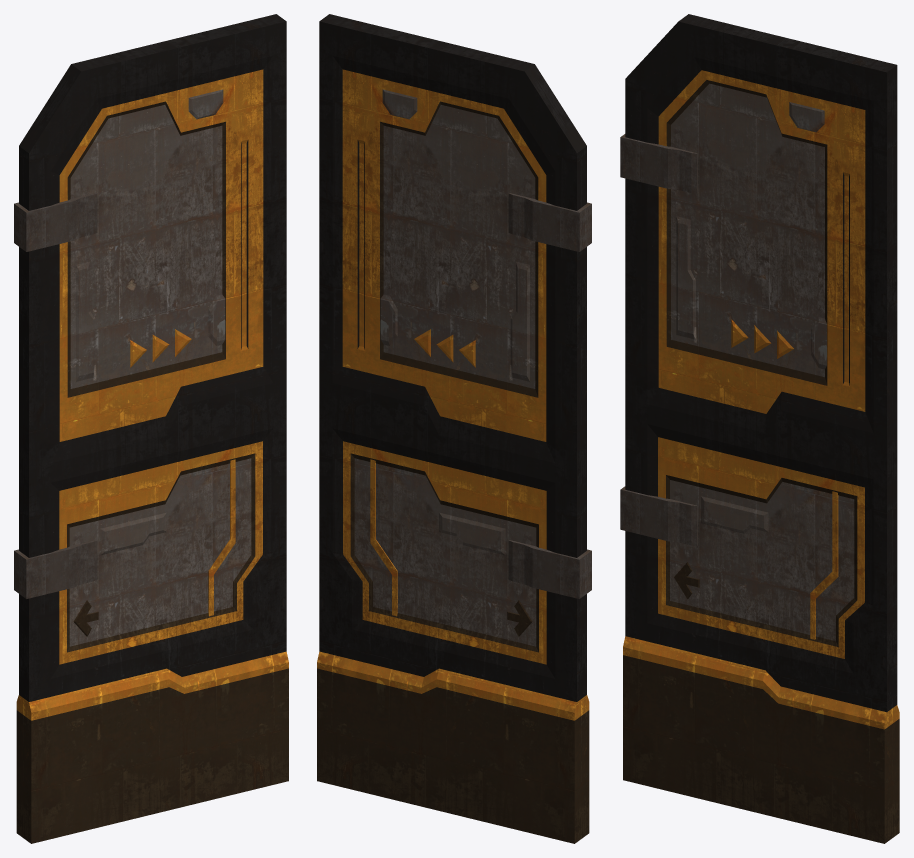
File: slide_door_left.glb
3 renders of one model, left to right at view 1: azimuth 30°, elevation 25°; view 2: azimuth 150°, elevation 25°; view 3: azimuth 330°, elevation 25°, orthographic.
Parts seen in each view (by area): view 1: slide_door_left; view 2: slide_door_left; view 3: slide_door_left.
Part boxes in pixels (x1=…): slide_door_left: x1=14, y1=14, x2=288, y2=843; slide_door_left: x1=317, y1=14, x2=591, y2=843; slide_door_left: x1=620, y1=14, x2=899, y2=843.
Bounding box in the file's own units: 0.92 × 2.55 × 0.09.
Materials: 5 (5 with a texture image).
